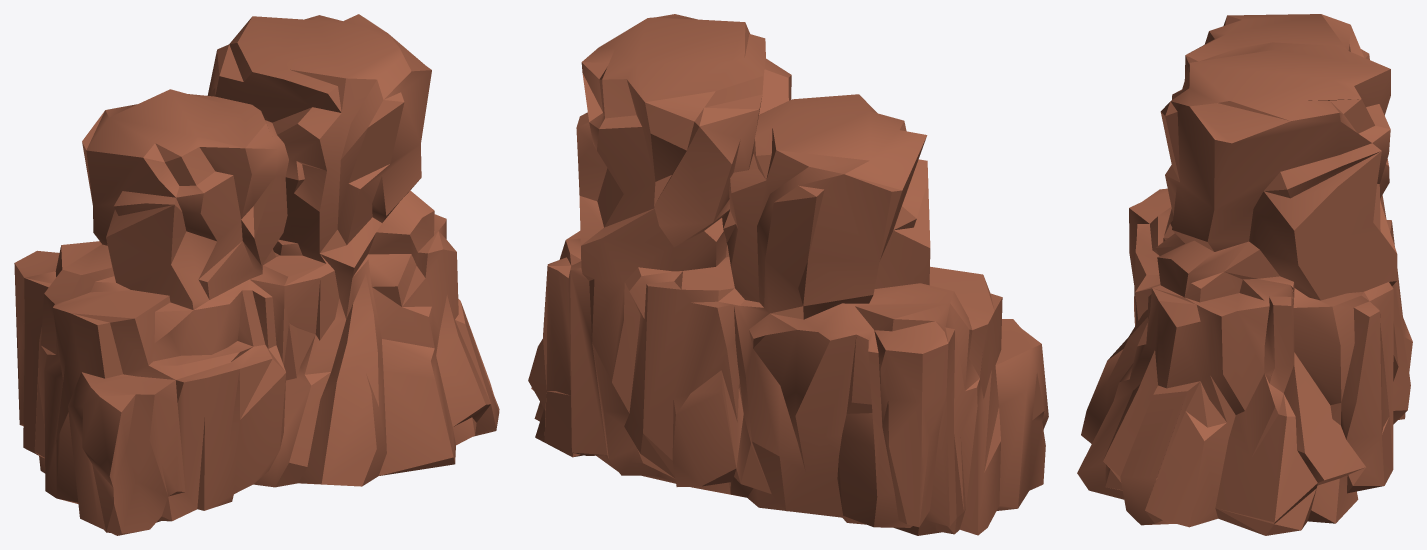
Rendered from Cliff_Large_A.fbx.
The picture shows the model from 3 angles, left to right: view 1: azimuth 30°, elevation 25°; view 2: azimuth 150°, elevation 25°; view 3: azimuth 270°, elevation 25°; orthographic projection. The views are drawn at different scales.
Visible parts, largest first — view 1: Cliff_Large_A; view 2: Cliff_Large_A; view 3: Cliff_Large_A.
Boxes of the visible parts, x1,y1,x2,y2 form: Cliff_Large_A: (14, 14, 499, 535); Cliff_Large_A: (528, 14, 1048, 535); Cliff_Large_A: (1077, 14, 1412, 535).
Bounding box in the file's own units: 15308 × 13278 × 9633.
